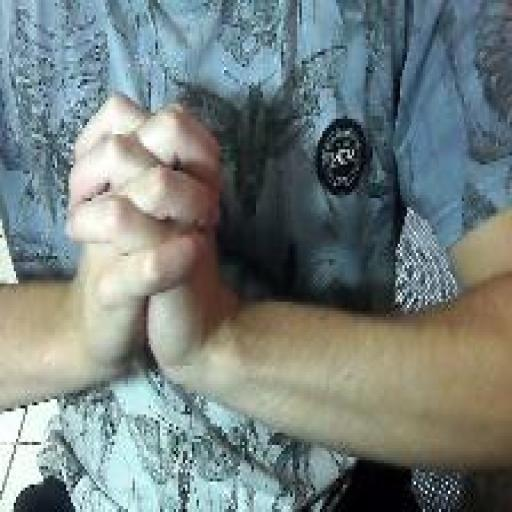Mi -snake-: (62, 87, 228, 401)
